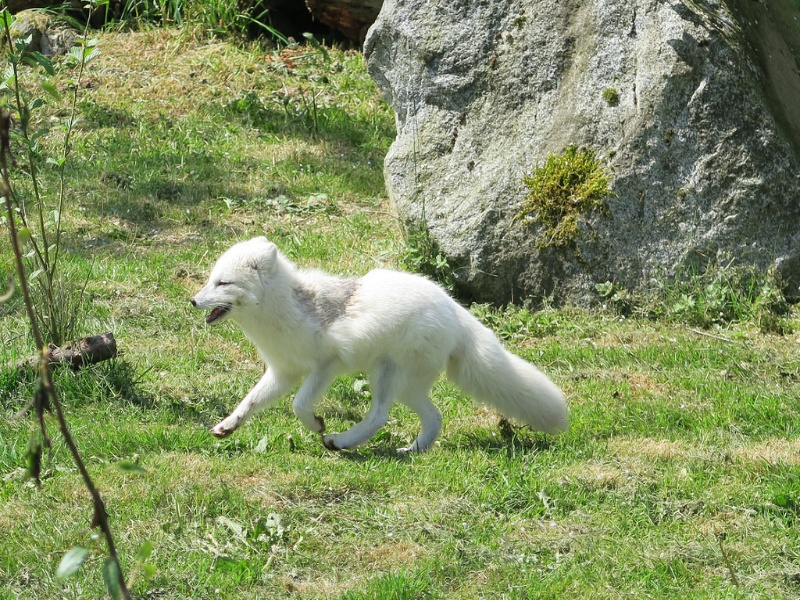fox: (189, 232, 573, 463)
